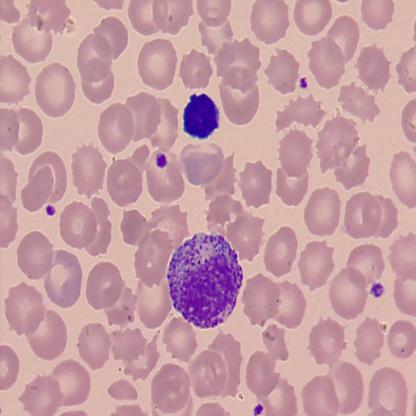Myelocyte: (166, 234, 242, 328)
